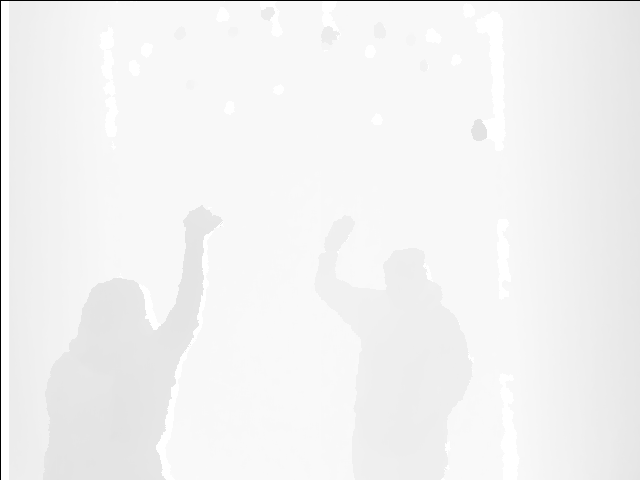hand: (180, 204, 222, 243), (323, 211, 354, 250)
